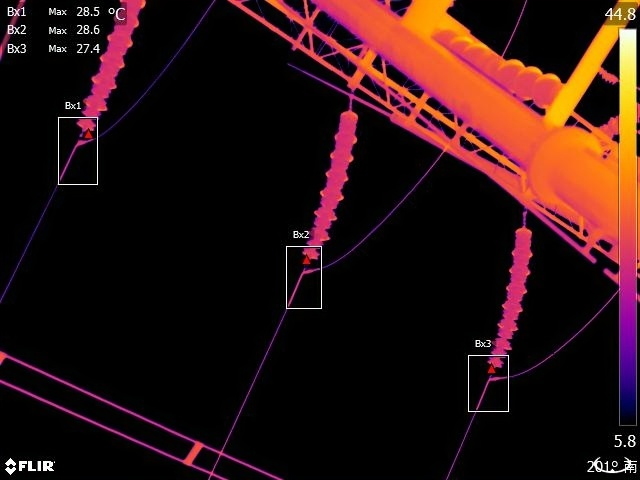clamp: (292, 259, 319, 286), (67, 131, 95, 155), (481, 369, 501, 387)
insulator: (296, 96, 365, 264), (438, 24, 566, 105), (74, 1, 144, 136), (485, 217, 539, 372)
